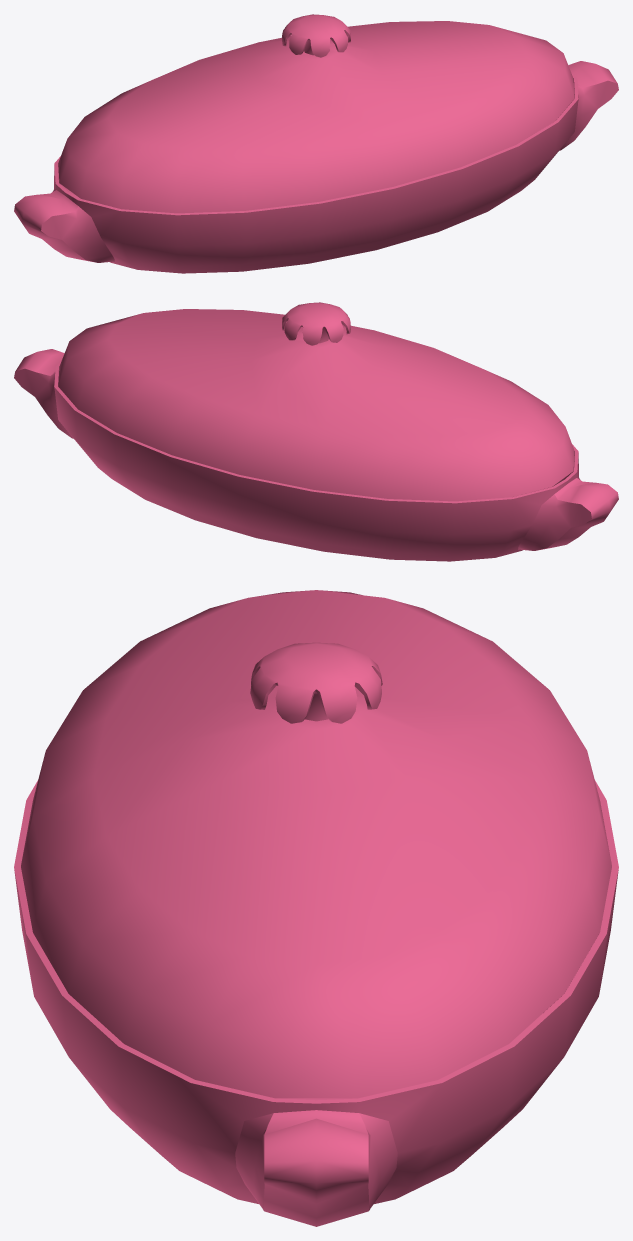
The model's file is Tableware_V6_5.fbx.
3 views of the same model, one above another, from view 1: azimuth 30°, elevation 25°; view 2: azimuth 150°, elevation 25°; view 3: azimuth 270°, elevation 25° (orthographic). The views are drawn at different scales.
Parts seen in each view (by area): view 1: SM_Tableware_V6_5; view 2: SM_Tableware_V6_5; view 3: SM_Tableware_V6_5.
Part boxes in pixels (x1=…): SM_Tableware_V6_5: x1=14, y1=14, x2=618, y2=273; SM_Tableware_V6_5: x1=14, y1=302, x2=618, y2=561; SM_Tableware_V6_5: x1=14, y1=590, x2=618, y2=1226.
Bounding box in the file's own units: 38.09 × 11.36 × 17.58.
